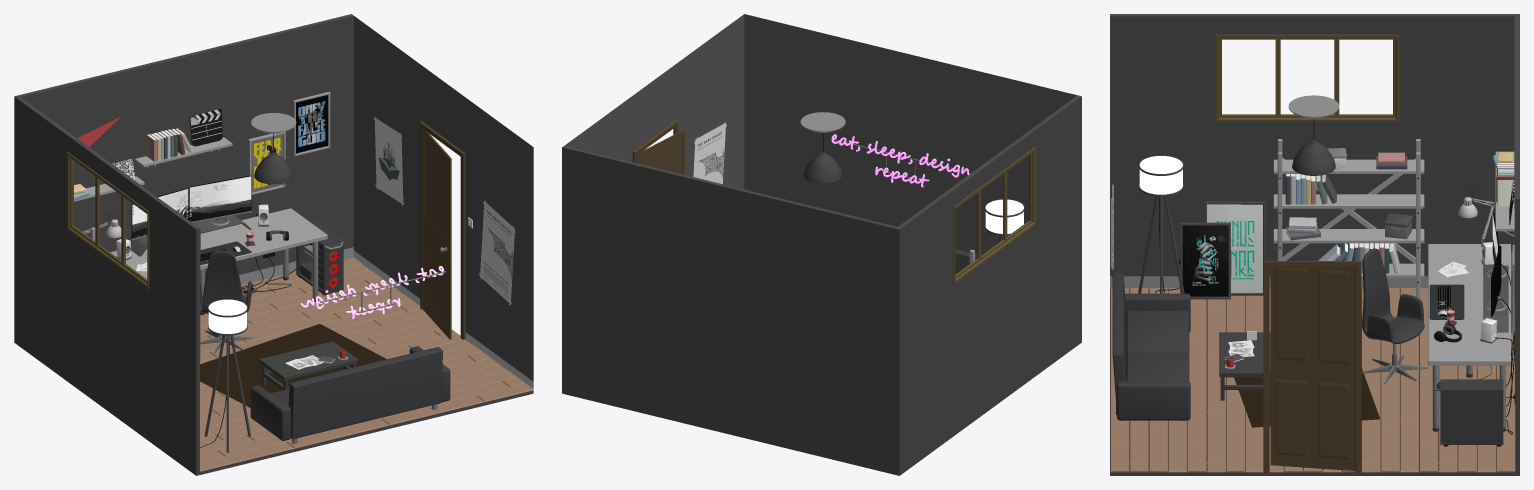
File: basement-office.glb
3 renders of one model, left to right at view 1: azimuth 30°, elevation 25°; view 2: azimuth 150°, elevation 25°; view 3: azimuth 270°, elevation 25°, orthographic. The views are drawn at different scales.
Parts seen in each view (by area): view 1: Object_49, Object_51, Object_28, Object_110, Object_84, Object_83, Object_3, Object_85, Object_32, Object_44, Object_82, Object_31 (+15 smaller); view 2: Object_49, Object_51, Object_85, Object_84, Object_32, Object_30, Object_99, Object_113, Object_105; view 3: Object_49, Object_28, Object_84, Object_83, Object_110, Object_85, Object_78, Object_25, Object_26, Object_113, Object_82, Object_3 (+18 smaller).
Part boxes in pixels (x1=…): Object_49: x1=14, y1=14, x2=533, y2=475; Object_51: x1=353, y1=16, x2=533, y2=381; Object_28: x1=199, y1=257, x2=533, y2=471; Object_110: x1=200, y1=250, x2=450, y2=440; Object_84: x1=420, y1=121, x2=465, y2=339; Object_83: x1=74, y1=137, x2=327, y2=278; Object_3: x1=200, y1=324, x2=386, y2=407; Object_85: x1=66, y1=152, x2=149, y2=288; Object_32: x1=480, y1=202, x2=514, y2=303; Object_44: x1=189, y1=176, x2=251, y2=221; Object_82: x1=259, y1=341, x2=357, y2=389; Object_31: x1=374, y1=118, x2=403, y2=203; Object_49: x1=562, y1=95, x2=1081, y2=475; Object_51: x1=565, y1=14, x2=1076, y2=255; Object_85: x1=953, y1=147, x2=1035, y2=284; Object_84: x1=632, y1=120, x2=684, y2=174; Object_32: x1=693, y1=123, x2=725, y2=183; Object_30: x1=985, y1=199, x2=1023, y2=233; Object_99: x1=803, y1=151, x2=842, y2=183; Object_113: x1=800, y1=112, x2=845, y2=132; Object_105: x1=831, y1=135, x2=968, y2=177; Object_49: x1=1110, y1=14, x2=1519, y2=475; Object_28: x1=1110, y1=288, x2=1515, y2=472; Object_84: x1=1263, y1=261, x2=1361, y2=472; Object_83: x1=1273, y1=139, x2=1514, y2=365; Object_110: x1=1112, y1=248, x2=1424, y2=420; Object_85: x1=1215, y1=34, x2=1399, y2=121; Object_78: x1=1279, y1=177, x2=1503, y2=444; Object_25: x1=1182, y1=225, x2=1228, y2=296; Object_26: x1=1207, y1=204, x2=1262, y2=292; Object_113: x1=1110, y1=95, x2=1427, y2=288; Object_82: x1=1219, y1=332, x2=1270, y2=400; Object_3: x1=1234, y1=367, x2=1379, y2=427.
Size of what is drawn, in the model's own units: 4.39 by 3.05 by 4.09.
Materials: 90 (15 with a texture image).
